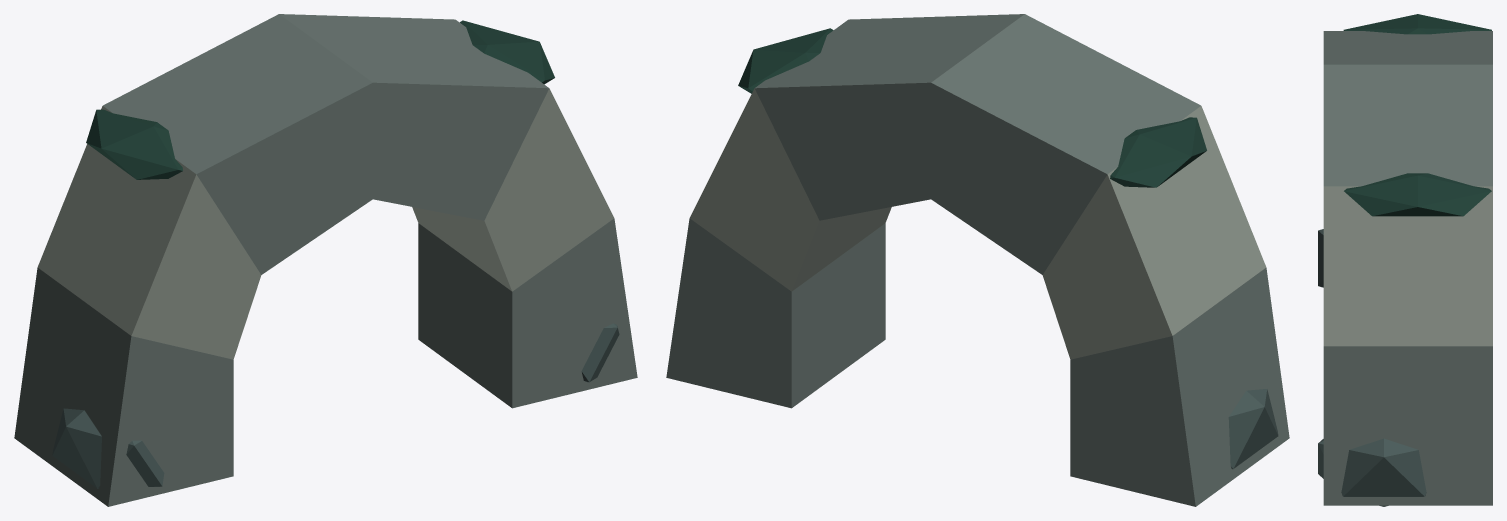
File: PirateCove_SeaStackArch_Standard.glb
The picture shows the model from 3 angles, left to right: view 1: azimuth 30°, elevation 25°; view 2: azimuth 150°, elevation 25°; view 3: azimuth 270°, elevation 25°; orthographic projection. The views are drawn at different scales.
Visible parts, largest first — view 1: PirateCove_SeaStackArch_Standard; view 2: PirateCove_SeaStackArch_Standard; view 3: PirateCove_SeaStackArch_Standard.
Boxes of the visible parts, x1,y1,x2,y2 form: PirateCove_SeaStackArch_Standard: [14, 14, 637, 506]; PirateCove_SeaStackArch_Standard: [666, 14, 1289, 506]; PirateCove_SeaStackArch_Standard: [1318, 14, 1492, 506].
Size of the model in its own units: 11.77 by 7.8 by 3.61.
